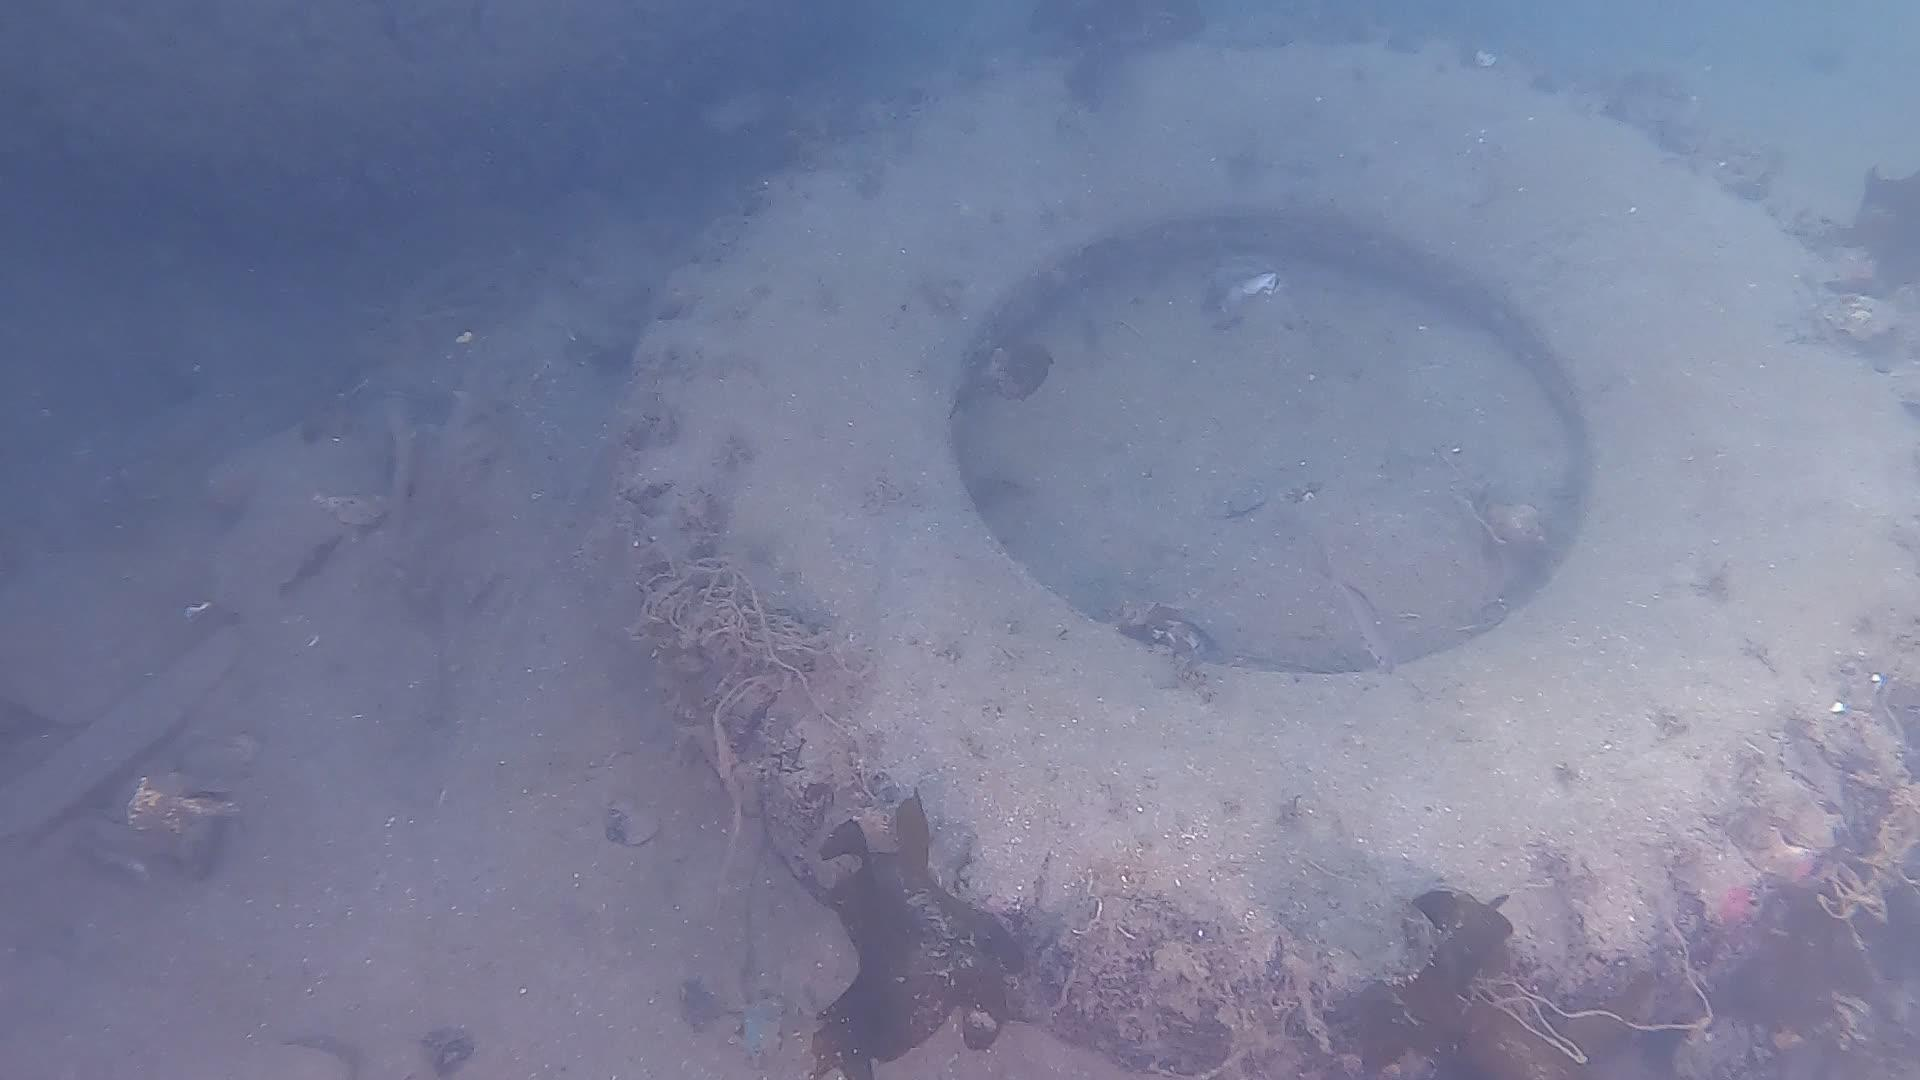tire: (620, 40, 1920, 1067)
